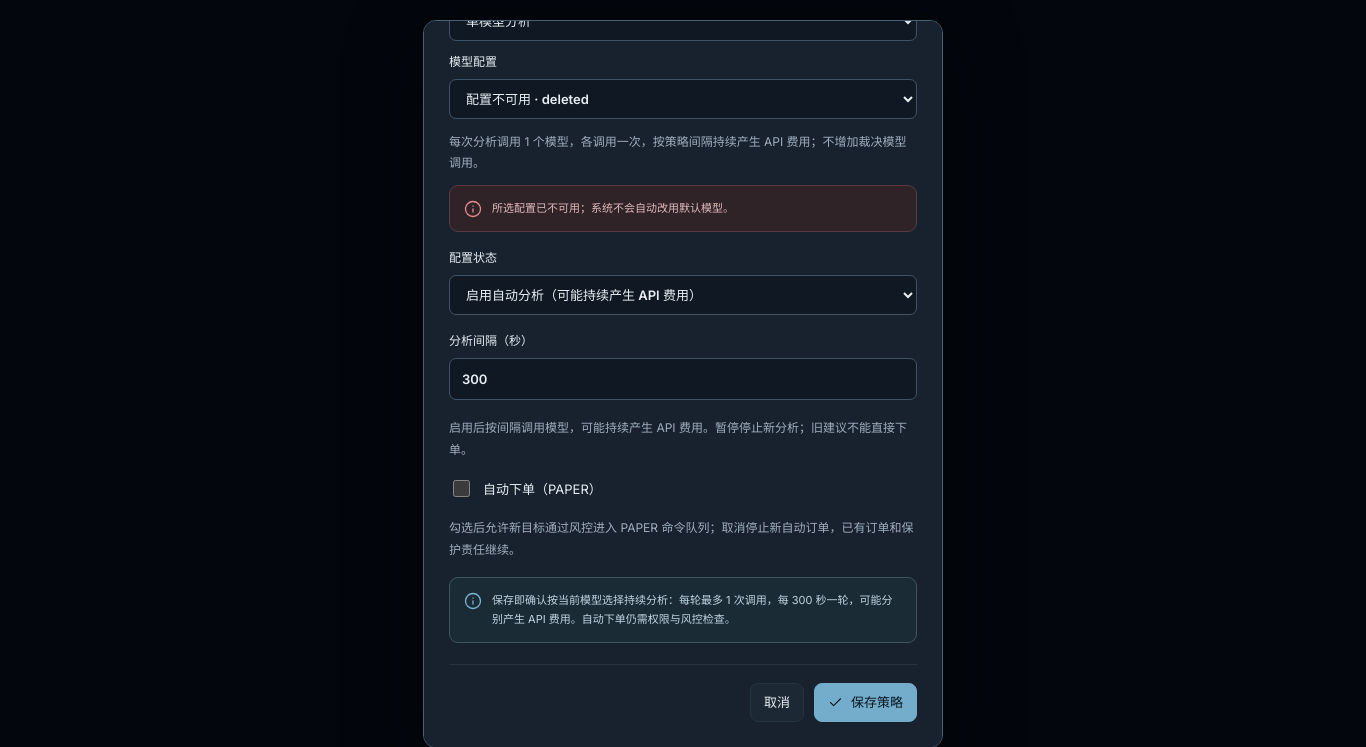
Test case: rejects a one-model cross selection and missing bindings without falling back
The width and height of the screenshot is (1366, 747).
(page scrolled)
Check: the dropdown labelled "模型配置" shows "配置不可用 · deleted", box [449, 79, 917, 119]
Click the button "保存策略". click: (866, 703)
box: [814, 683, 917, 722]
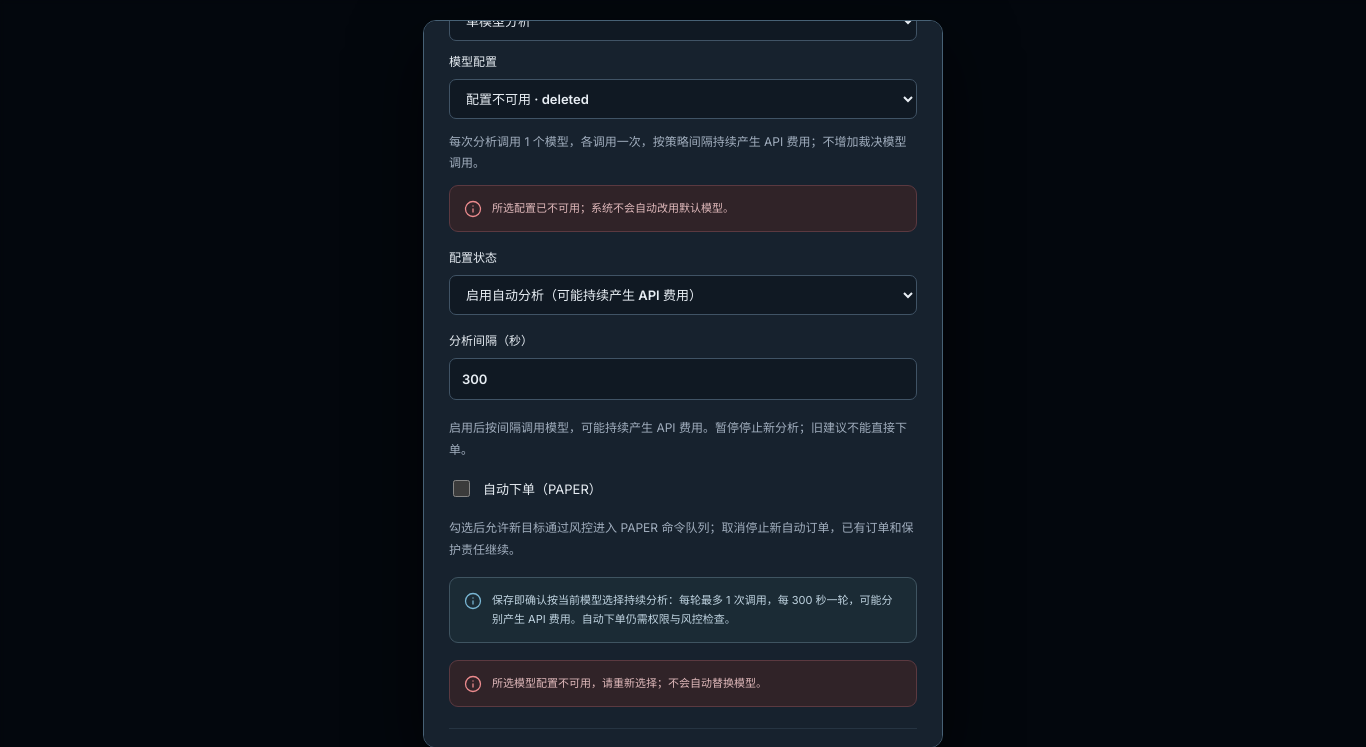
Check: the text "所选模型配置不可用，请重新选择；不会自动替换模型。" is shown, box [492, 676, 767, 690]
Select "复核模型 · model-b · 待验证" in the dropdown labelled "模型配置". click: (683, 99)
box: [449, 79, 917, 119]
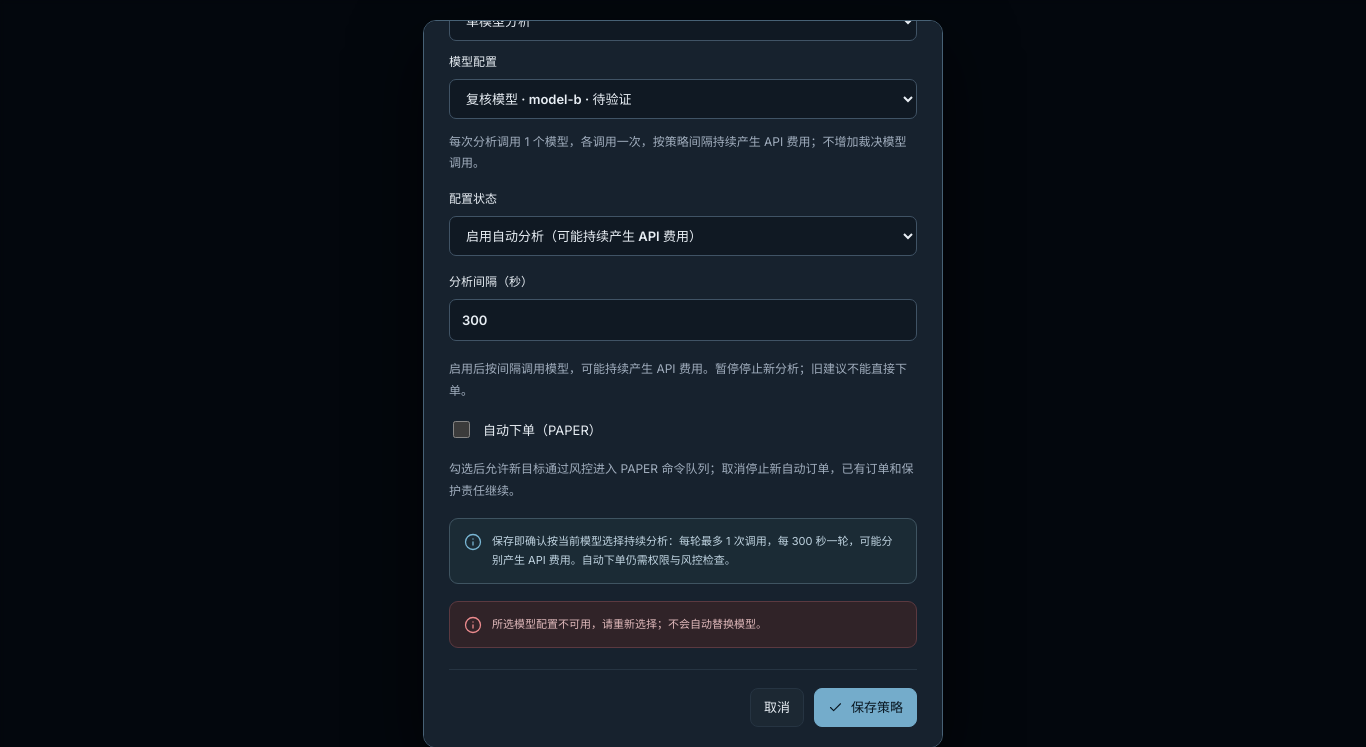
Select "交叉分析（可选，2–3 个模型）" in the dropdown labelled "分析方式". click: (683, 21)
box: [449, 1, 917, 41]
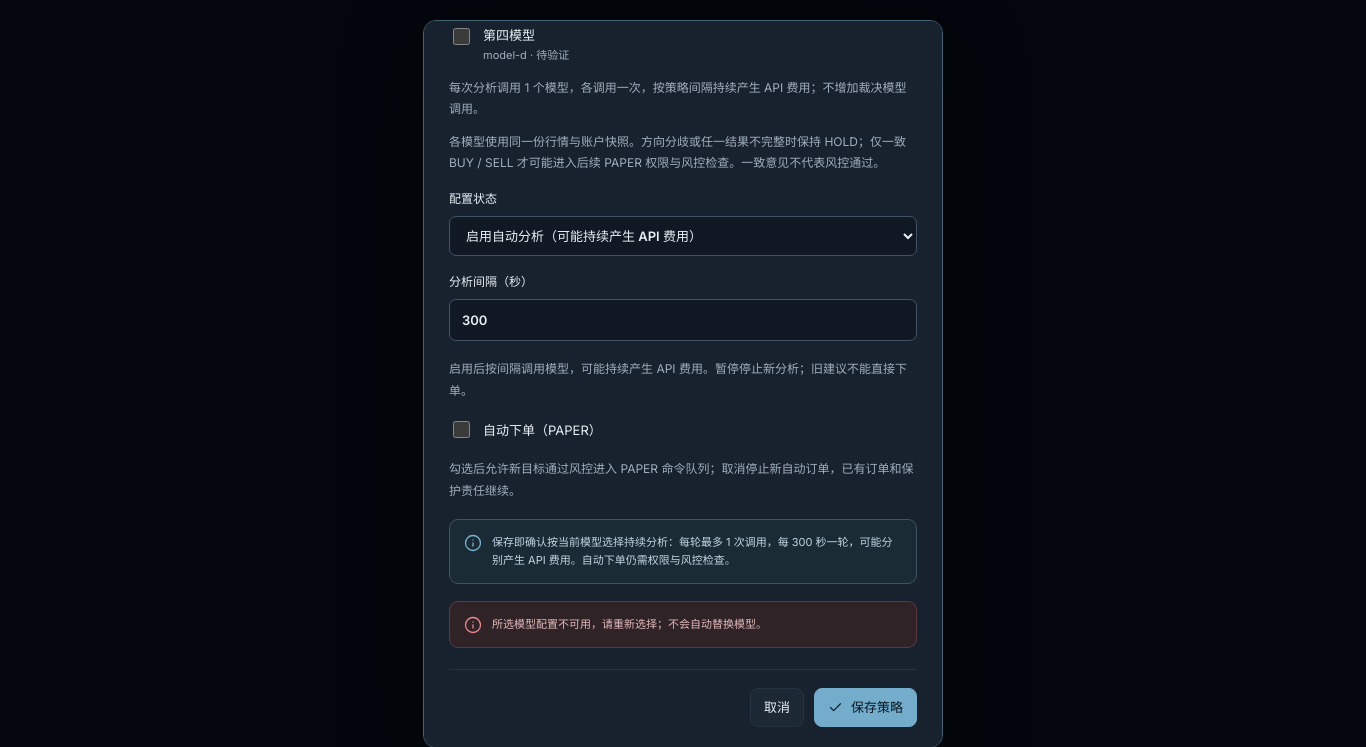
Click the button "保存策略". click: (866, 708)
box: [814, 688, 917, 727]
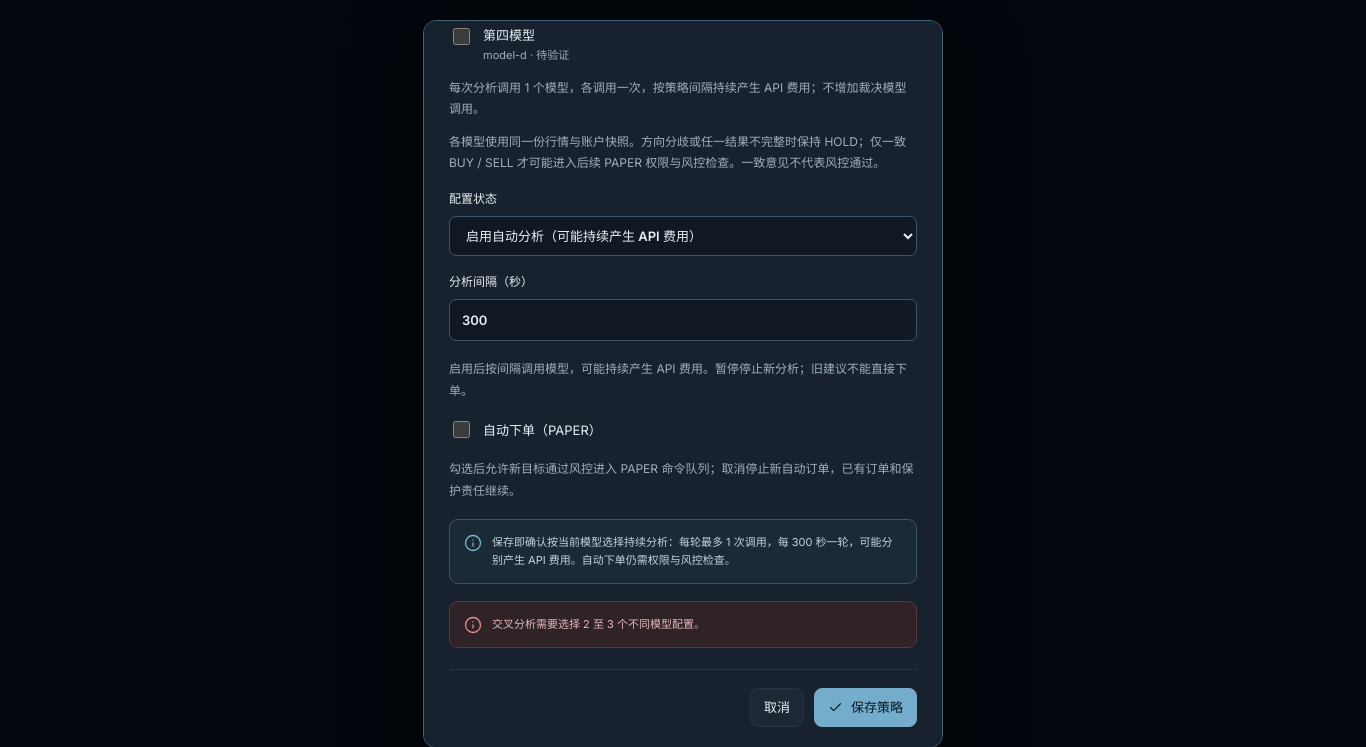
Check: the text "交叉分析需要选择 2 至 3 个不同模型配置。" is shown, box [492, 617, 705, 631]
